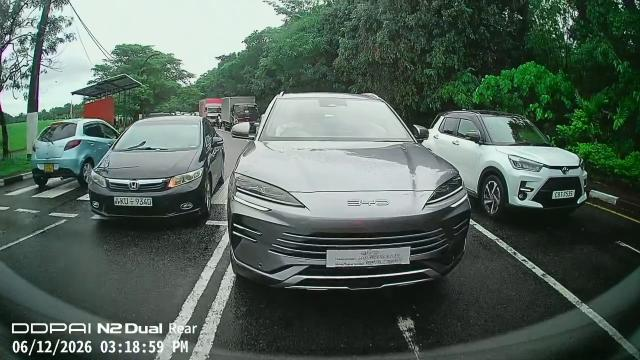illegal overtaking: (94, 96, 225, 237)
number plate: (104, 192, 159, 212)
